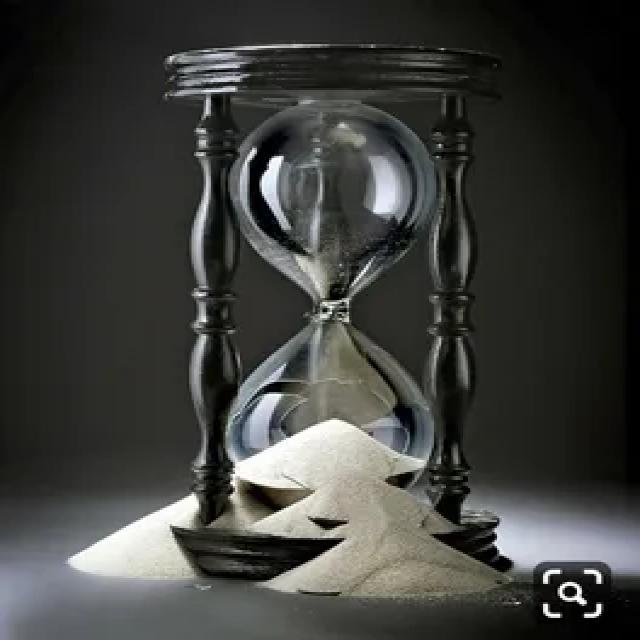clock: (150, 29, 534, 593)
